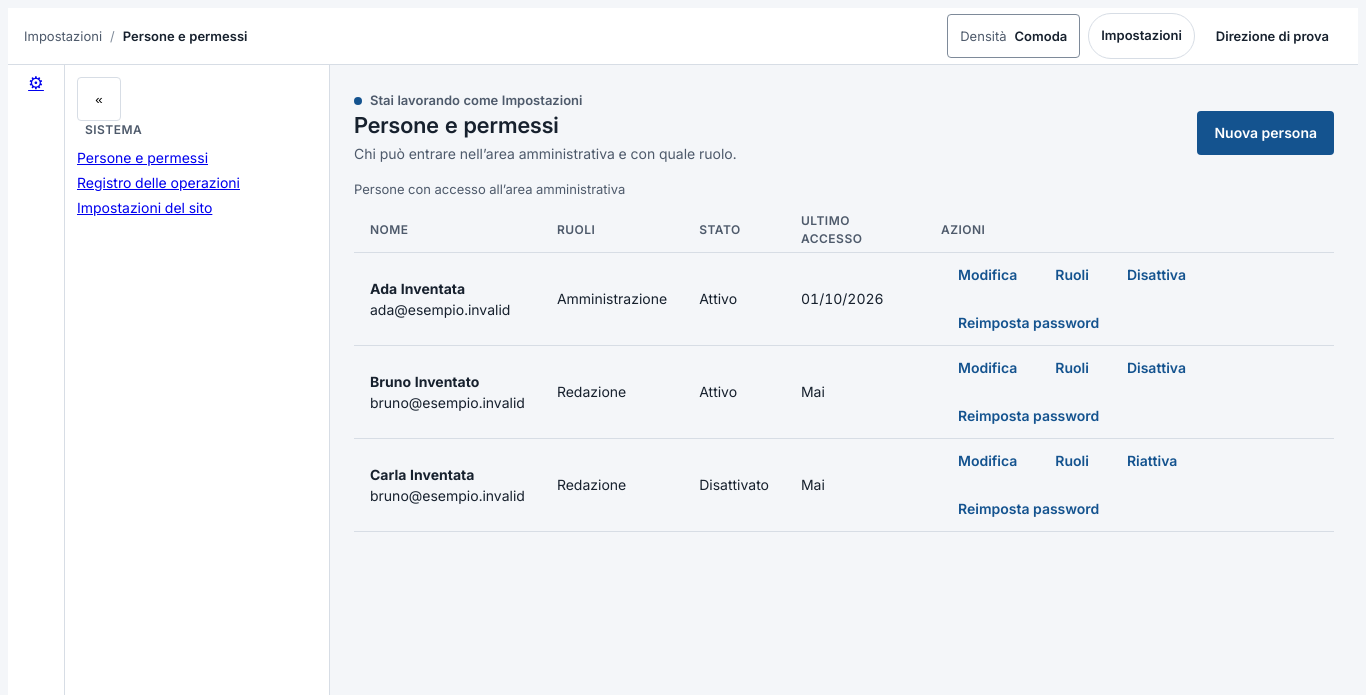
Test: persone e permessi › senza alcun ruolo scelto non invia e lo dice
Expected: the text "Ada Inventata" is shown, [370,280,465,297]
Click the button "Nuova persona" at (1266, 133), box [1198,111,1334,155]
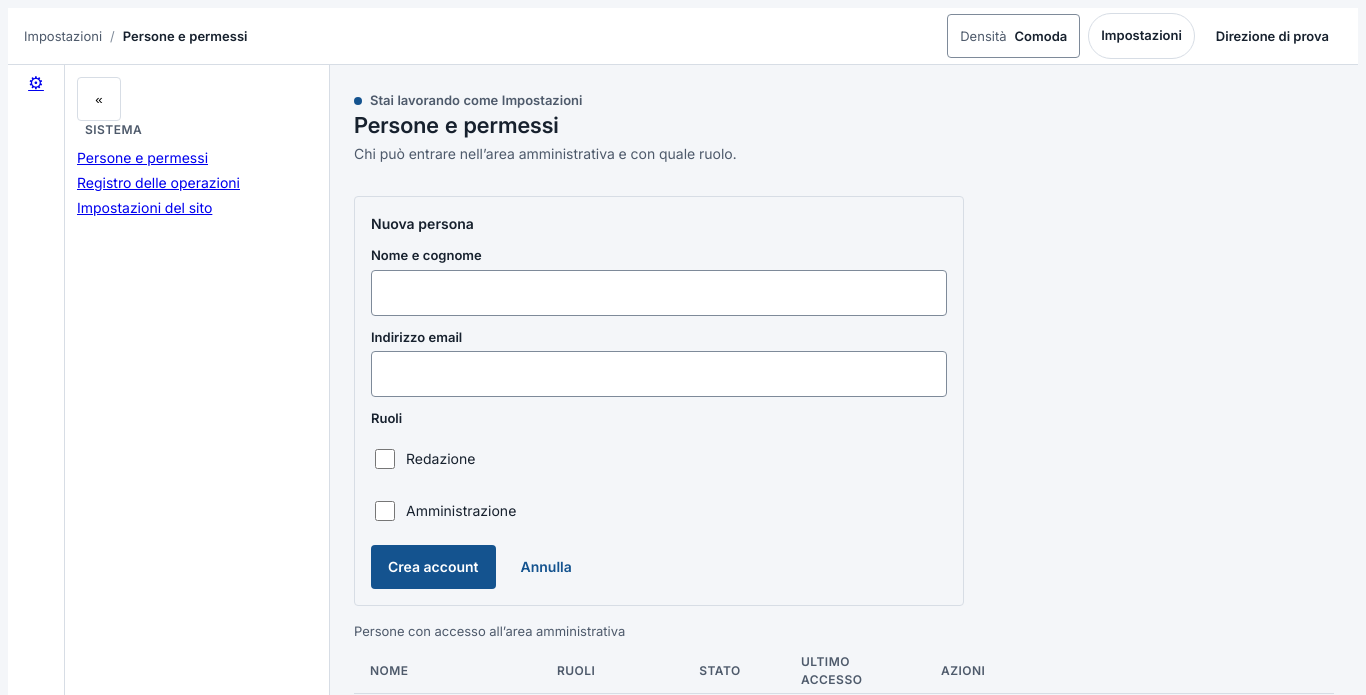
Type "Senza Ruolo" into the field labelled "Nome e cognome" at (659, 293), box [371,270,947,316]
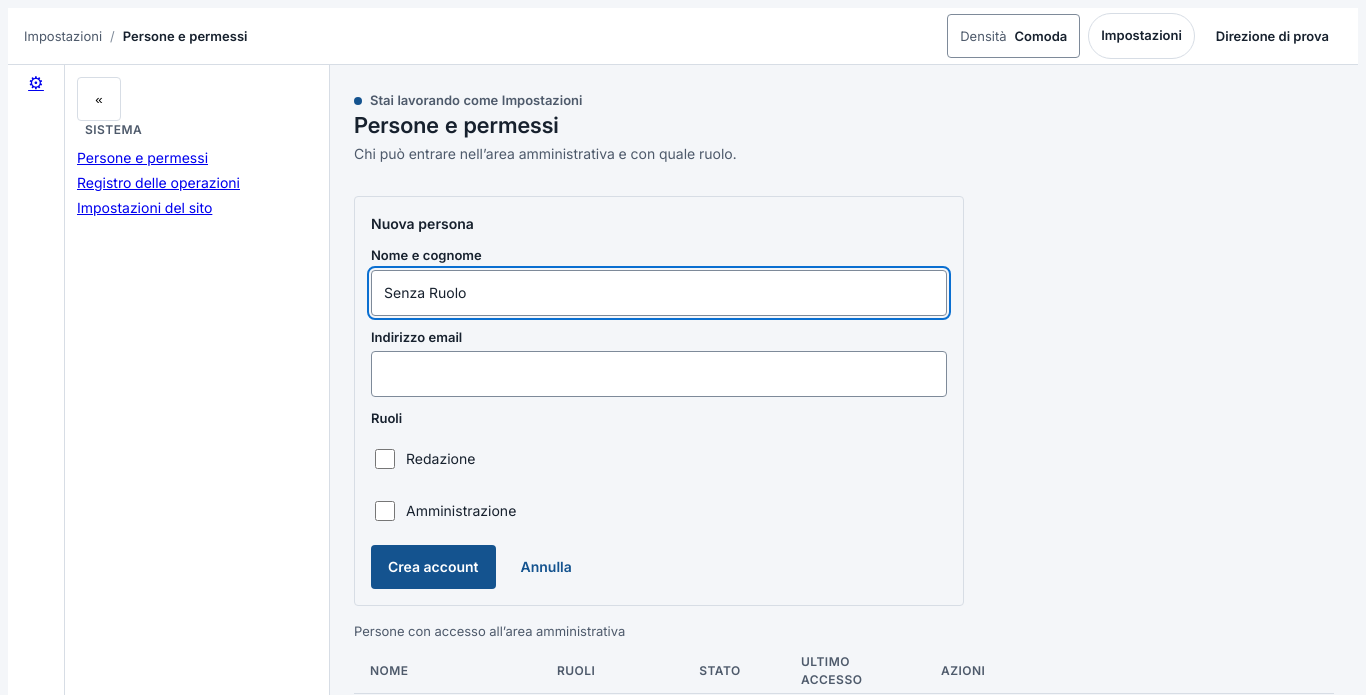
Type "senza@esempio.invalid" into the field labelled "Indirizzo email" at (659, 374), box [371,351,947,397]
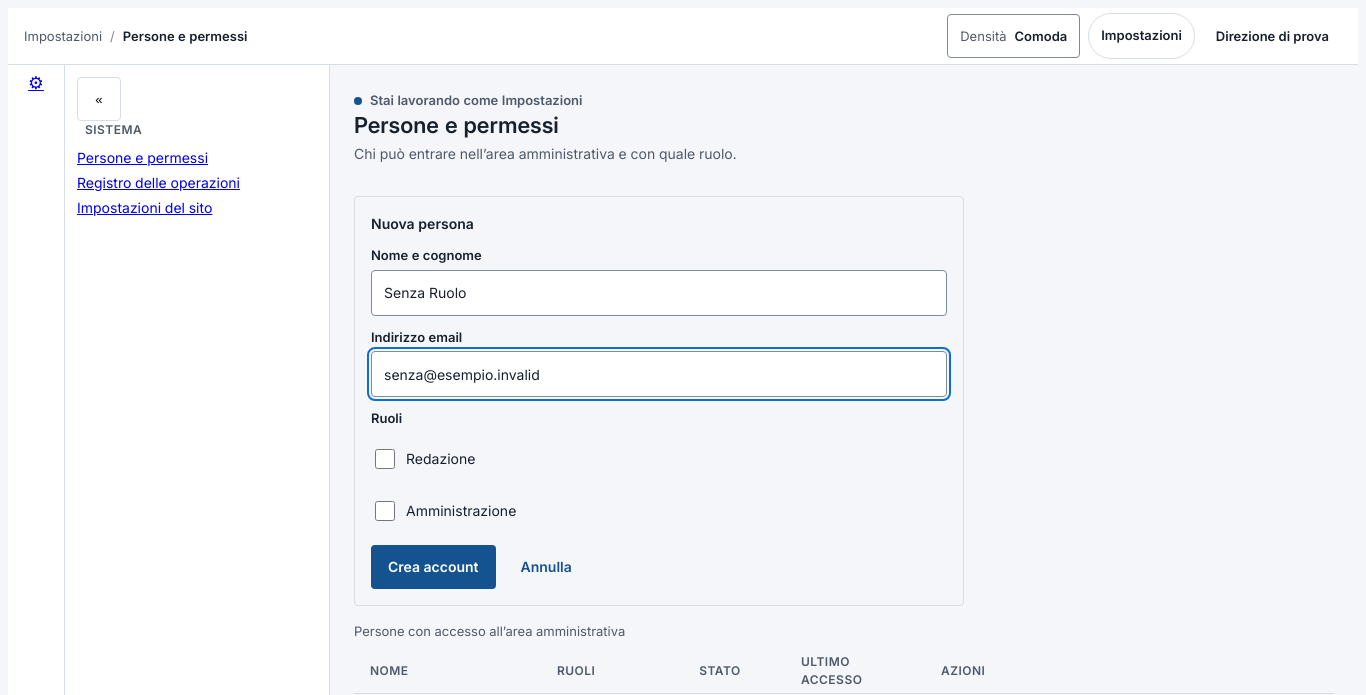
Click the button "Crea account" at (433, 567), box [371,545,496,589]
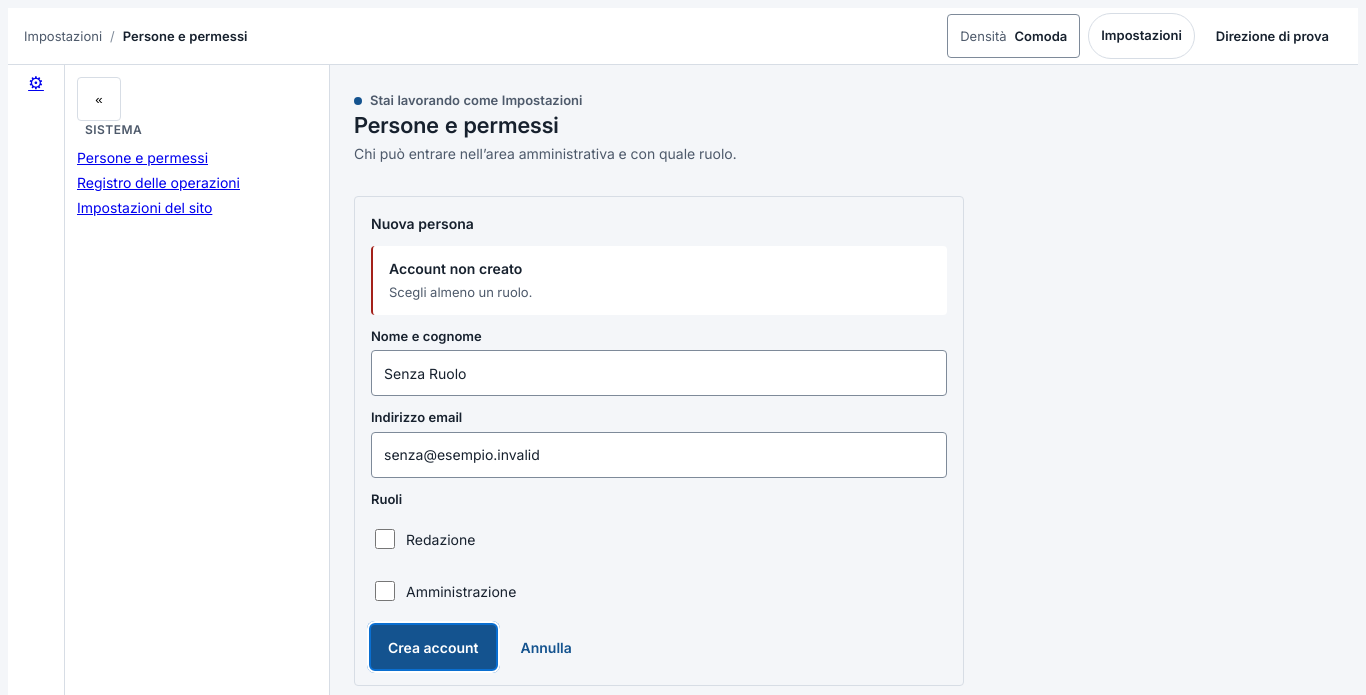
Expected: the text "Scegli almeno un ruolo." is shown, [389,284,532,300]
